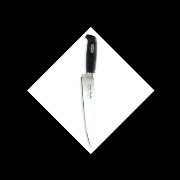k1: (80, 66, 100, 148)
